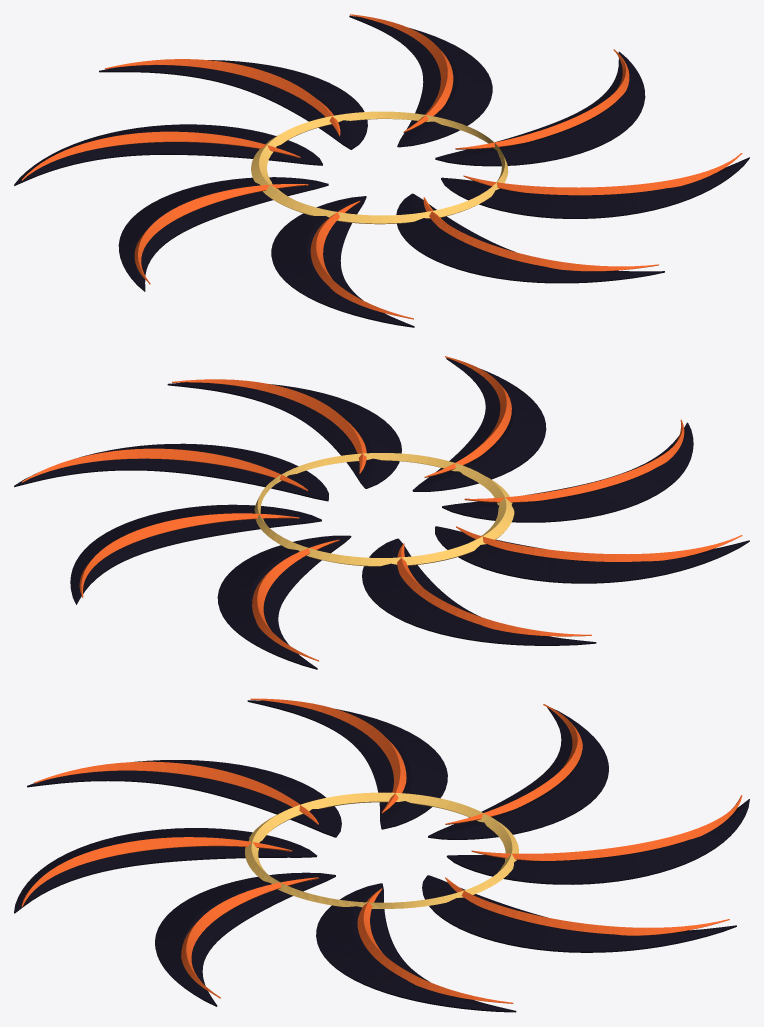
Rendered from VFX_55_EclissiNovaOscura.fbx.
The picture shows the model from 3 angles, top to bottom: view 1: azimuth 30°, elevation 25°; view 2: azimuth 150°, elevation 25°; view 3: azimuth 270°, elevation 25°; orthographic projection. The views are drawn at different scales.
Visible parts, largest first — view 1: VFX_55_EclissiNovaOscura; view 2: VFX_55_EclissiNovaOscura; view 3: VFX_55_EclissiNovaOscura.
Part boxes in pixels (x1,y1,x2,y2): VFX_55_EclissiNovaOscura: (14,14,749,327); VFX_55_EclissiNovaOscura: (14,356,749,669); VFX_55_EclissiNovaOscura: (14,698,749,1012).
Bounding box in the file's own units: 451 × 9.4 × 451.
Materials: 1 (1 with a texture image).
